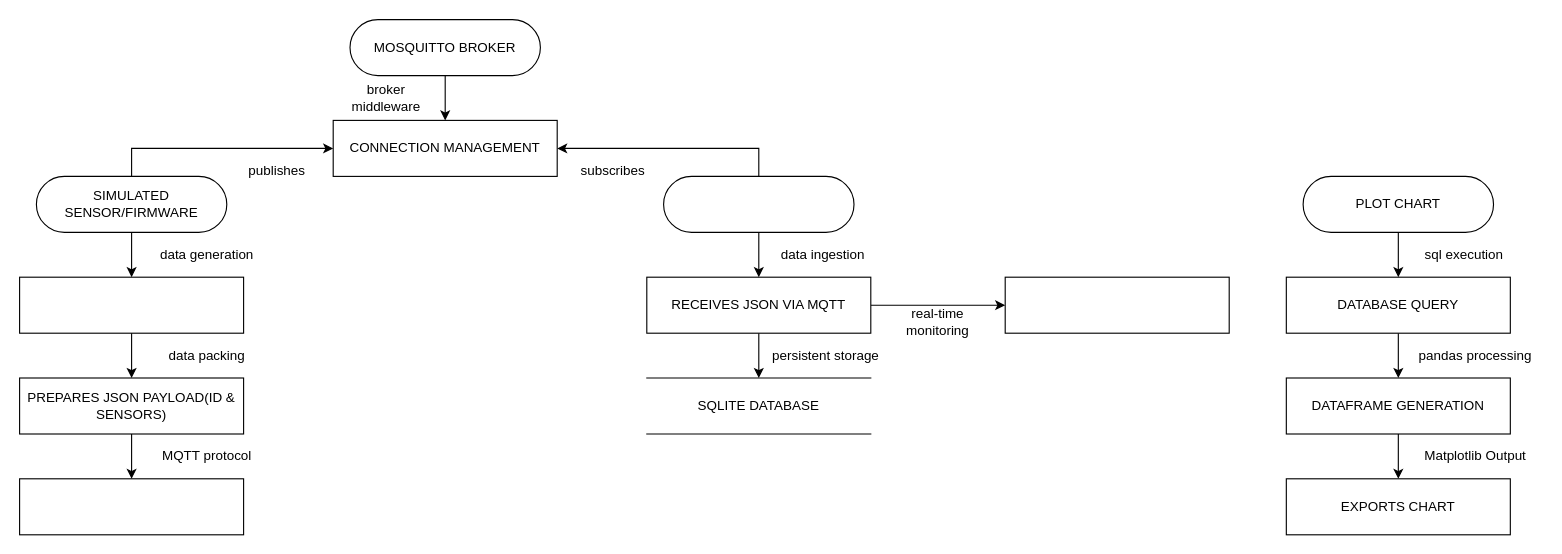
This 1562x554 diagram has some shape labels left out. Here are the shapes that lost their labels. From the top down, the centre of each, then its label:
At [758,203]: "DATA CATCHER".
At [131,304]: "GENERATES RANDOM SENSOR READINGS".
At [1116,304]: "DISPLAYS READING ON CONSOLE".
At [131,506]: "PUBLISHES JSON VIA MQTT".
